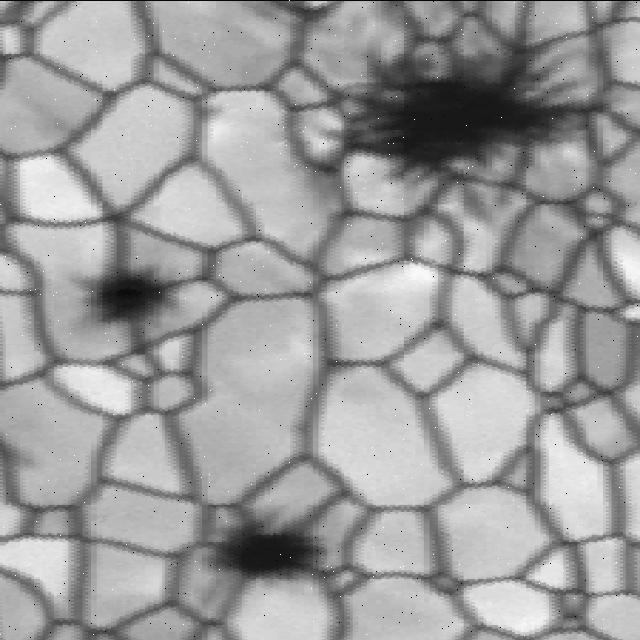good_void: (314, 34, 623, 207), (183, 502, 339, 603), (61, 252, 209, 334)
